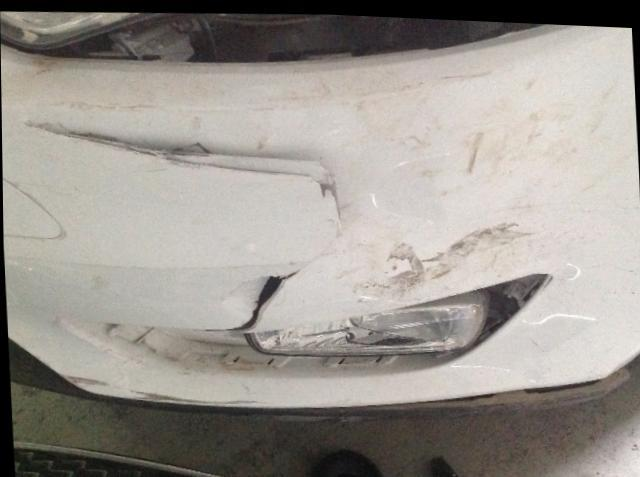crack: (29, 119, 338, 335)
scratch: (348, 216, 549, 310), (18, 93, 154, 118), (121, 391, 264, 406), (433, 53, 495, 77), (61, 375, 107, 393), (467, 126, 484, 168)
